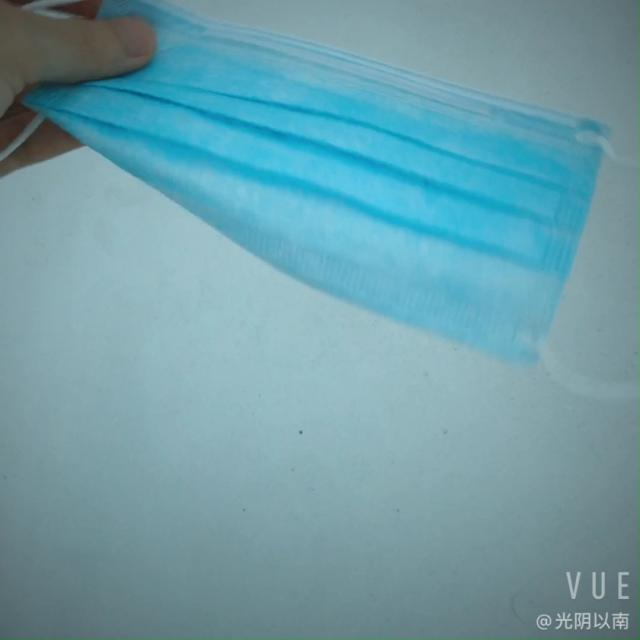face mask: (32, 20, 587, 376)
